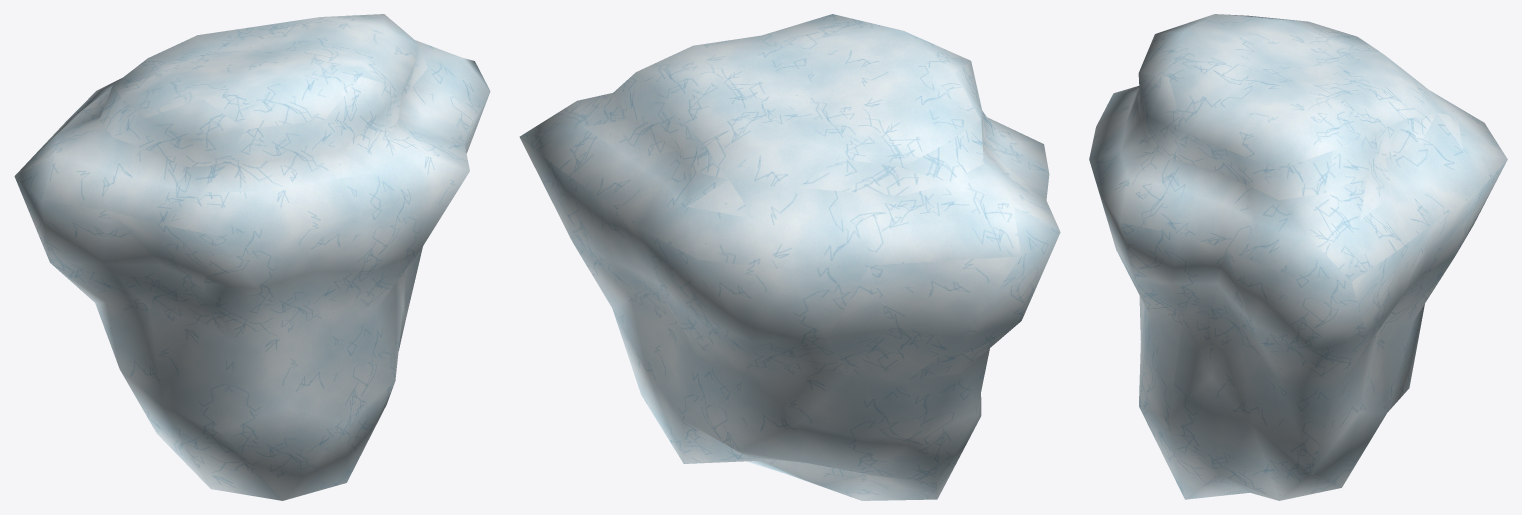
The model's file is iceberg.fbx.
3 views of the same model, side by side, from view 1: azimuth 30°, elevation 25°; view 2: azimuth 150°, elevation 25°; view 3: azimuth 270°, elevation 25° (orthographic). The views are drawn at different scales.
Visible parts, largest first — view 1: iceberg; view 2: iceberg; view 3: iceberg.
Part boxes in pixels (bbox=[...]): iceberg: bbox=[14, 14, 490, 500]; iceberg: bbox=[519, 14, 1060, 500]; iceberg: bbox=[1089, 14, 1507, 500].
Size of the model in its own units: 12.79 by 11.08 by 9.56.
1 material, 1 textured.
